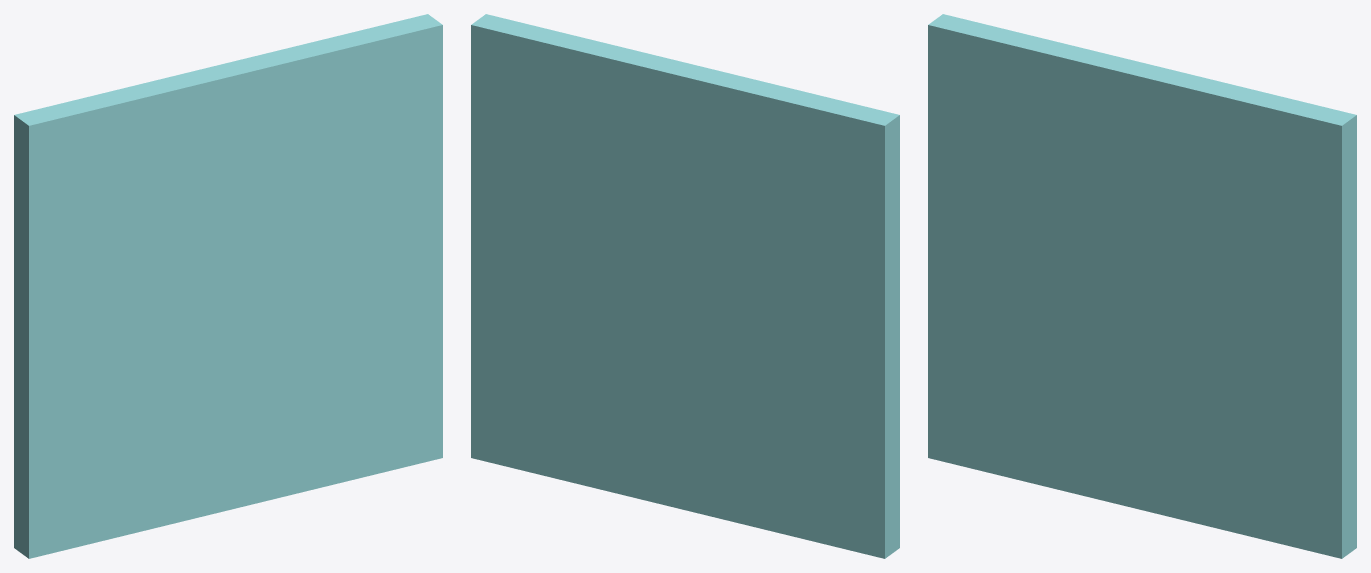
3 views of the same model, side by side, from view 1: azimuth 30°, elevation 25°; view 2: azimuth 150°, elevation 25°; view 3: azimuth 330°, elevation 25° (orthographic).
Size of the model in its own units: 32 by 32 by 2.
